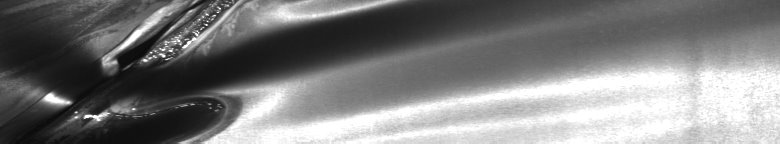ke: (29, 4, 397, 136)
